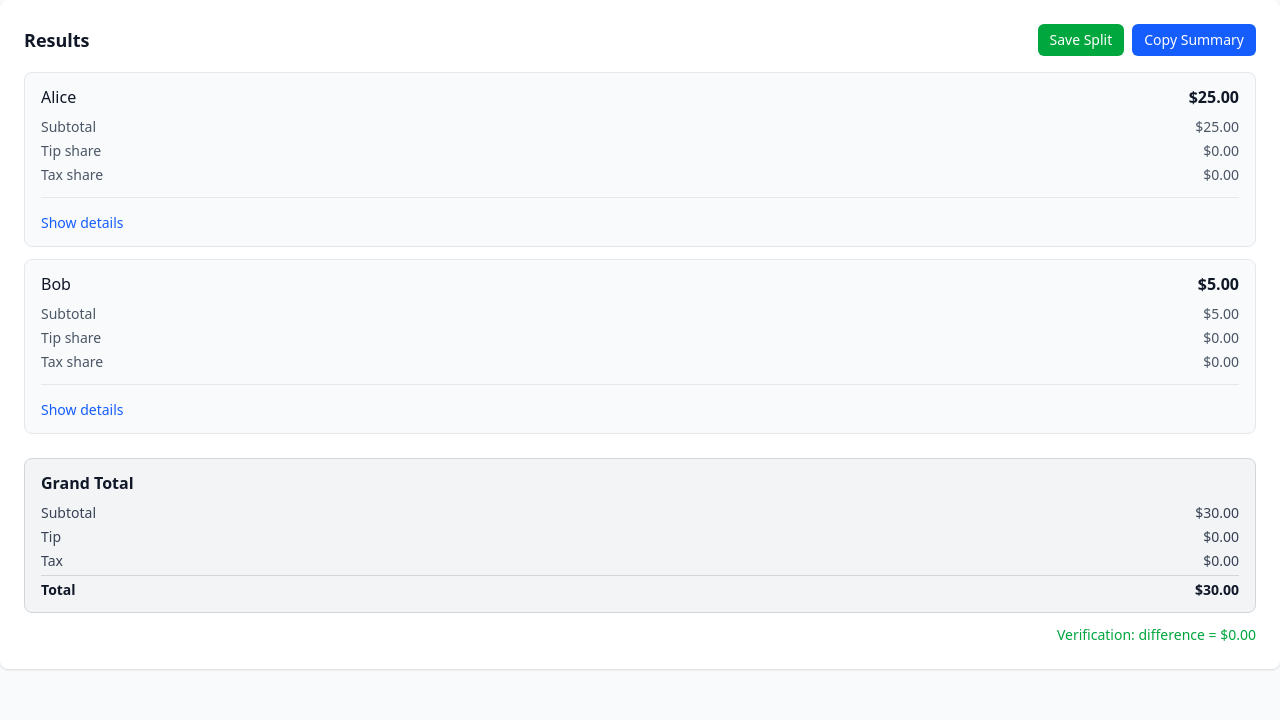
ResultsSection › itemized receipt view › expands to show itemized breakdown when clicked
The width and height of the screenshot is (1280, 720).
Step 1. Click the button with aria-label "show itemized details for Alice" → click(82, 223), box [41,213,124,233]
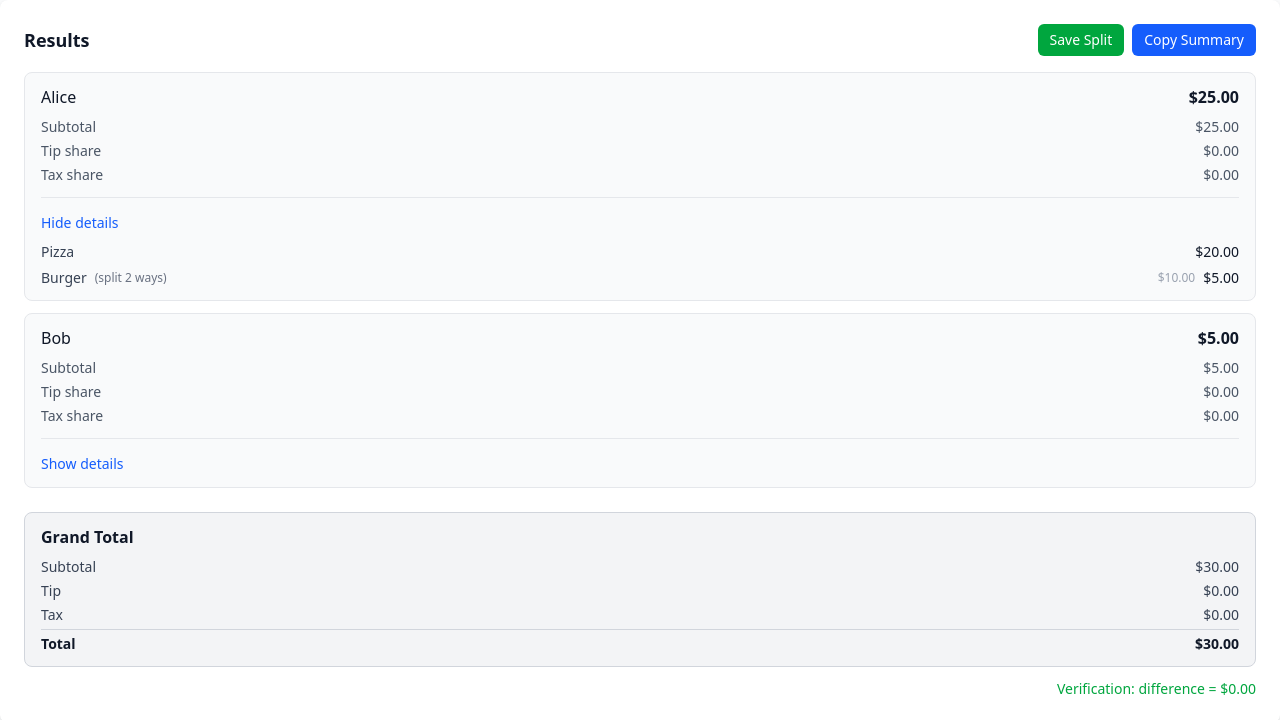
Result: the text "Pizza" is shown at [41,242,74,262]
Result: the text "Burger" is shown at [41,268,87,288]
